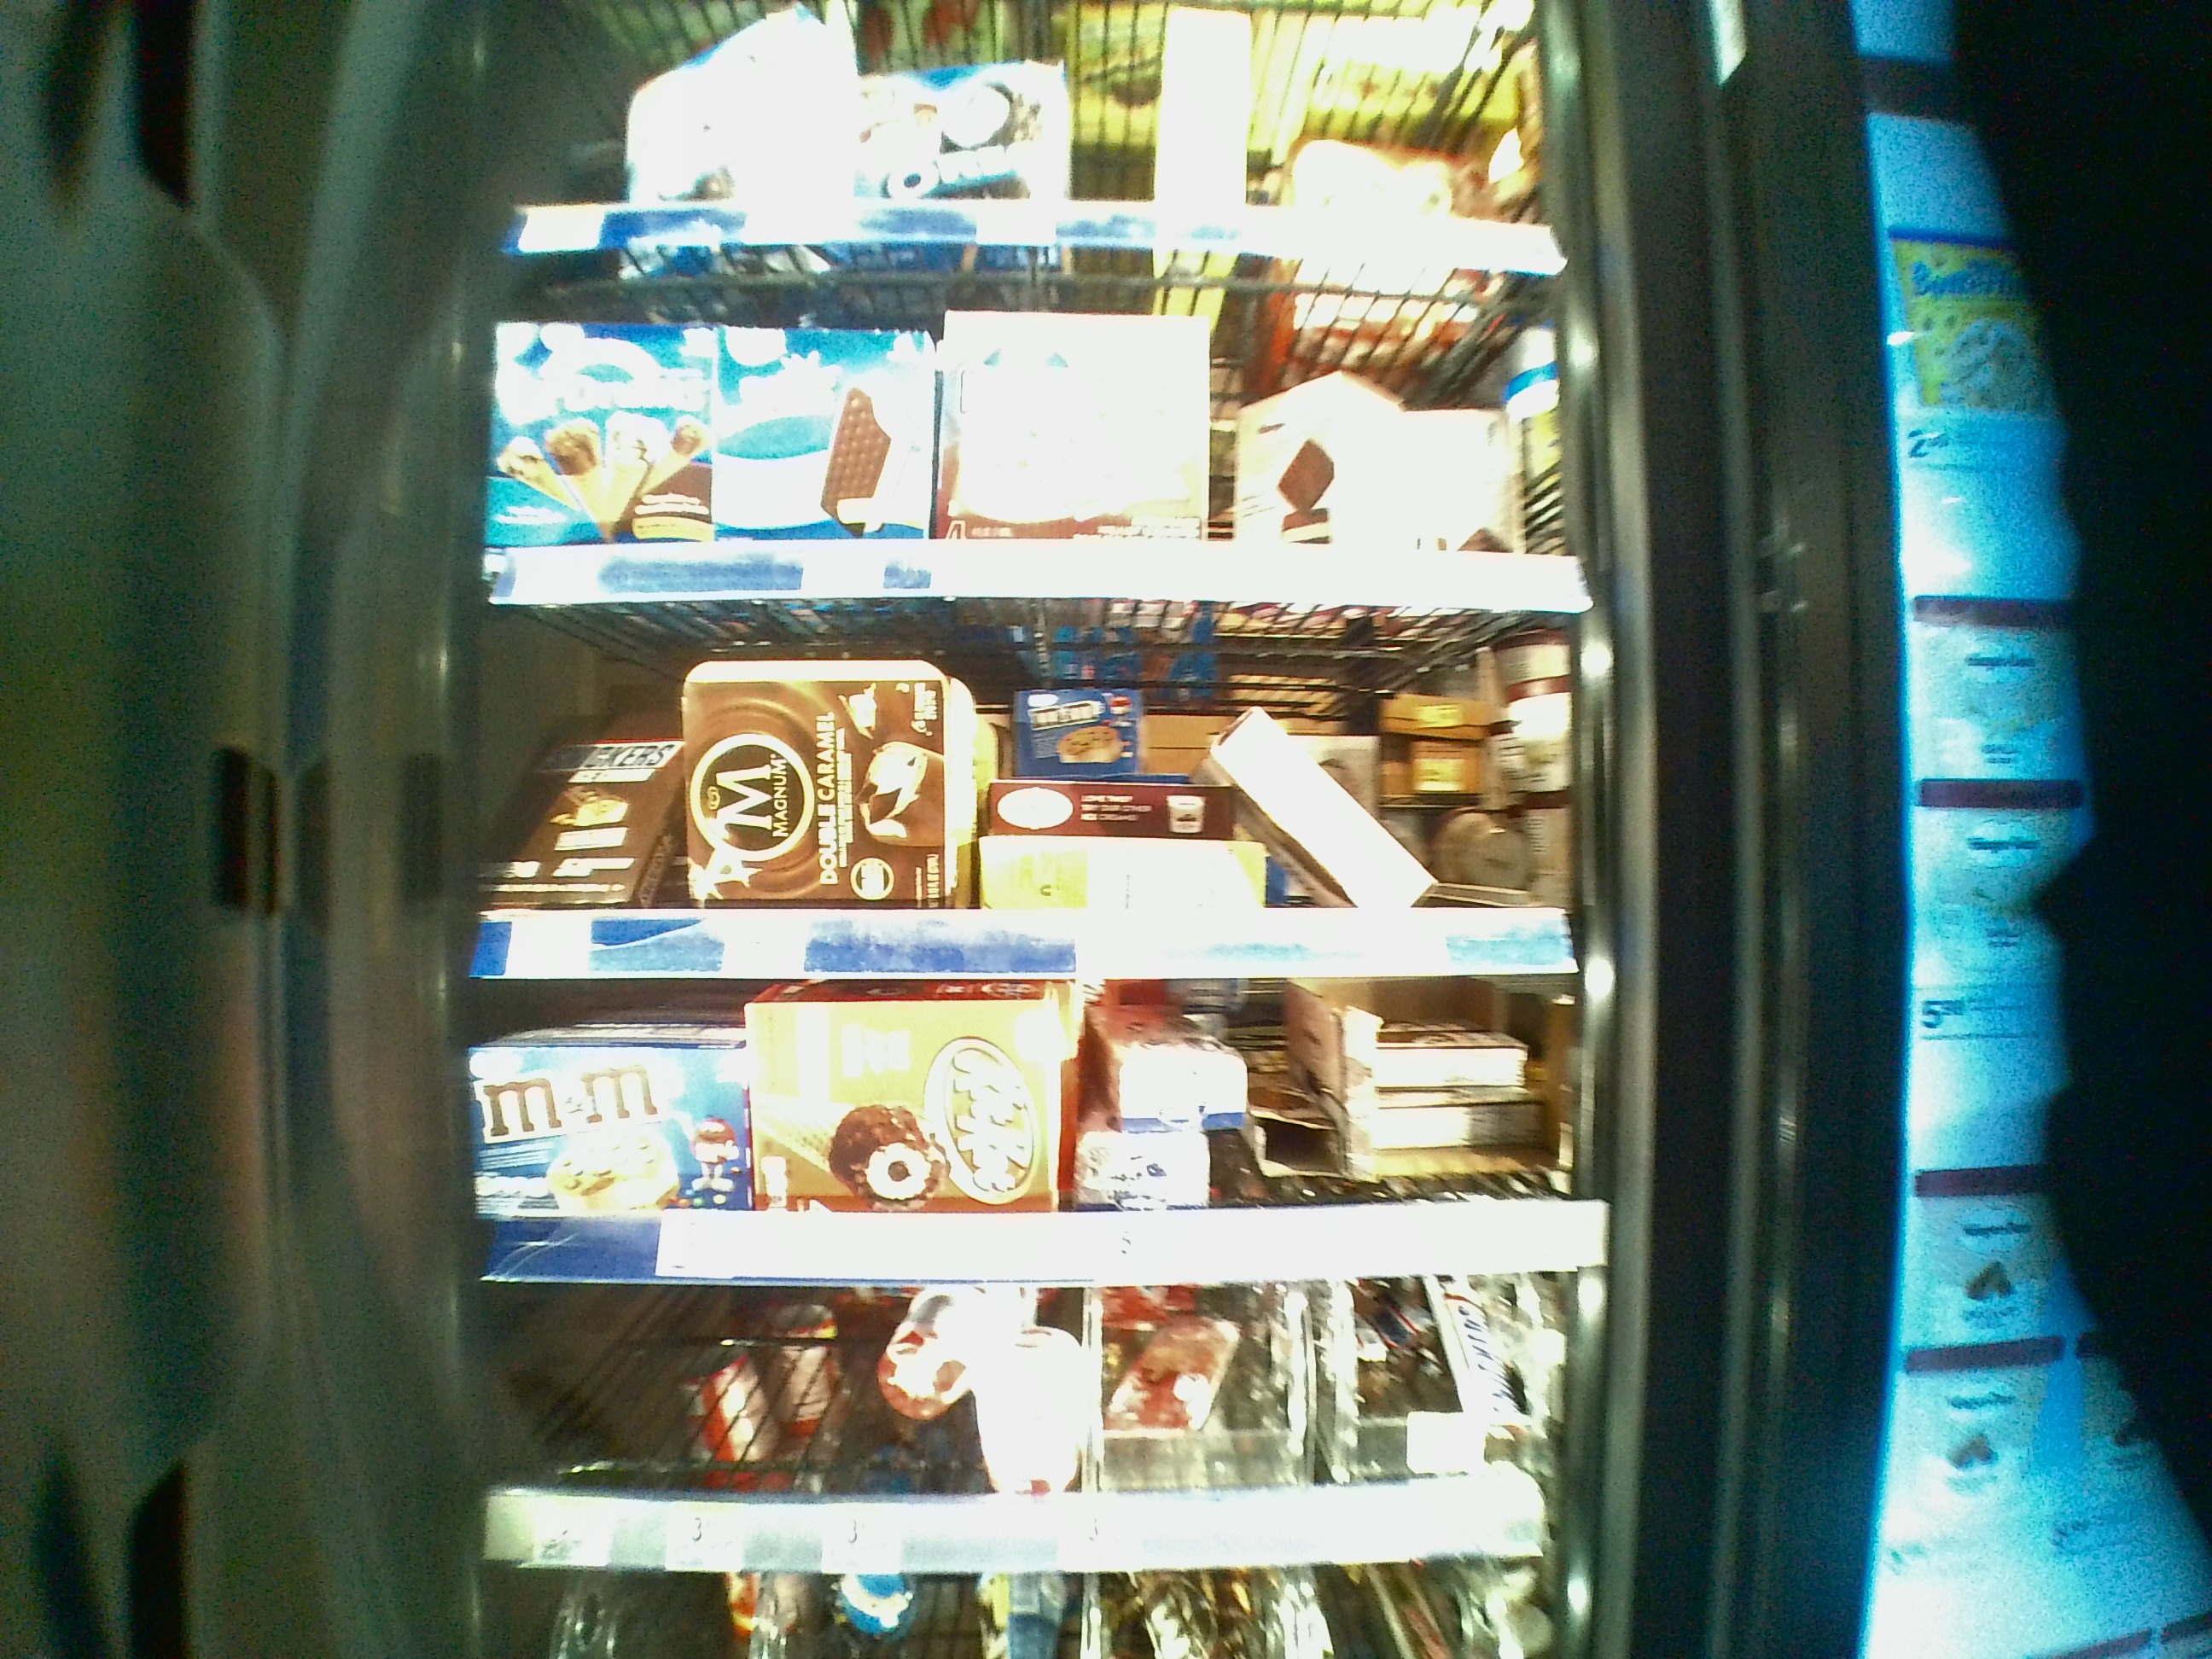shelf: (462, 237, 1576, 596), (456, 613, 1581, 969), (462, 983, 1595, 1281), (481, 1291, 1583, 1577)
